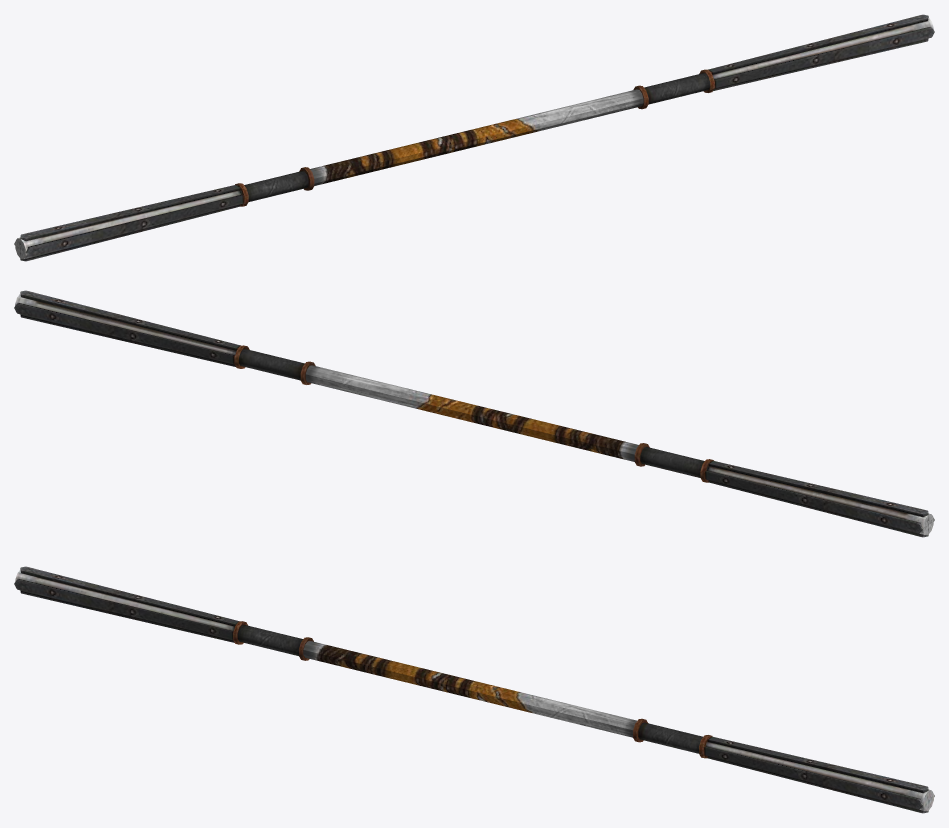
The model's file is bo_staff.glb.
3 views of the same model, one above another, from view 1: azimuth 30°, elevation 25°; view 2: azimuth 150°, elevation 25°; view 3: azimuth 330°, elevation 25° (orthographic).
Parts seen in each view (by area): view 1: Object_Material.001_0; view 2: Object_Material.001_0; view 3: Object_Material.001_0.
Part boxes in pixels (bbox=[...]): Object_Material.001_0: bbox=[14, 14, 934, 261]; Object_Material.001_0: bbox=[14, 290, 934, 537]; Object_Material.001_0: bbox=[14, 566, 934, 813].
Size of the model in its own units: 1.42 by 0.0347 by 0.0347.
Materials: 1 (1 with a texture image).
